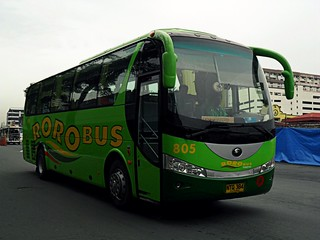bus: (23, 27, 293, 210)
